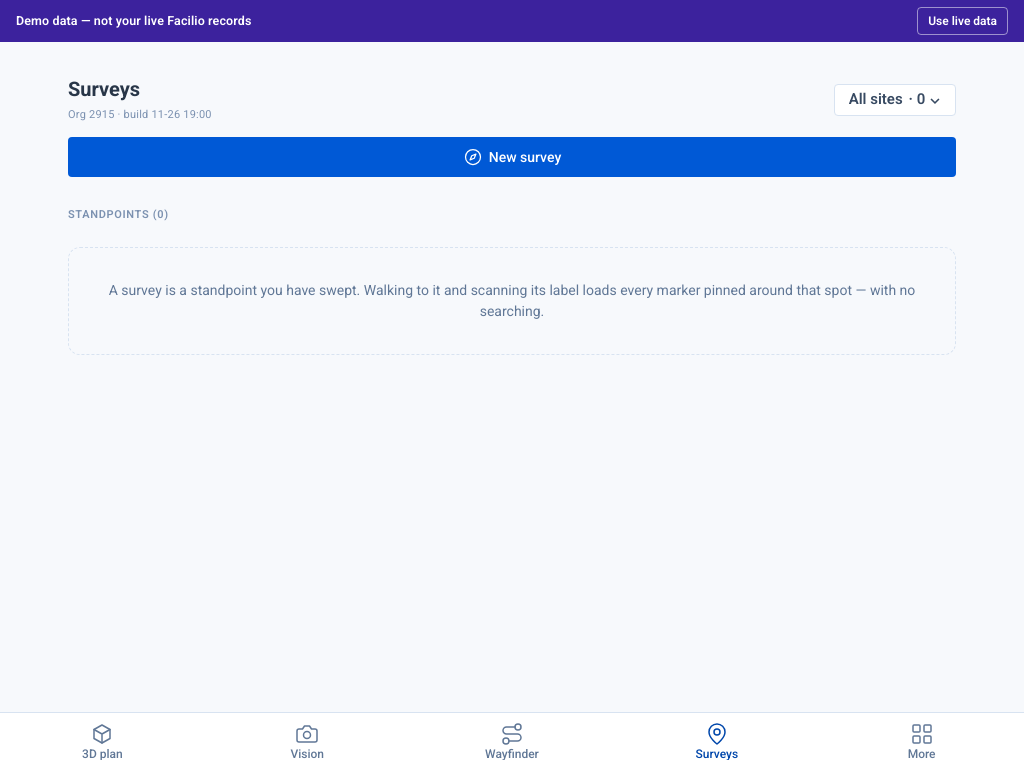
it: select › expands inline — it never opens a sheet inside a sheet
# open the scope sheet, then the SITE field row inside it
Step 1. Click the button with aria-label "Working scope" → (895, 100), box [834,84,956,116]
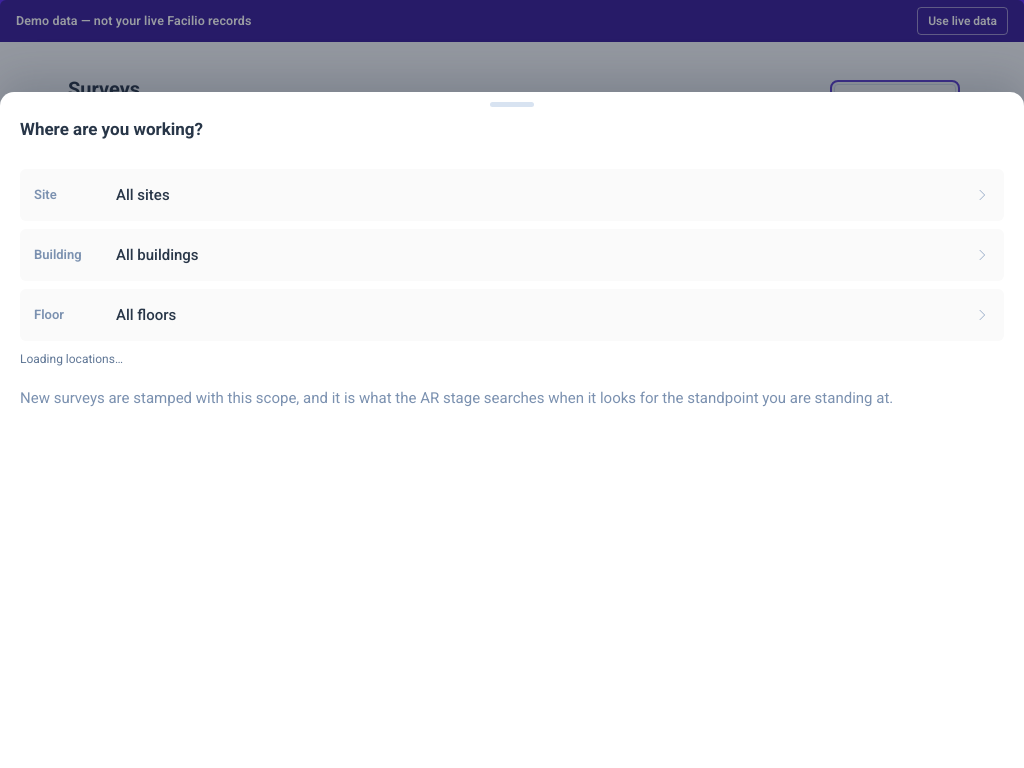
Step 2. Click the button "Site All sites" → (143, 195), box [20,169,1004,221]
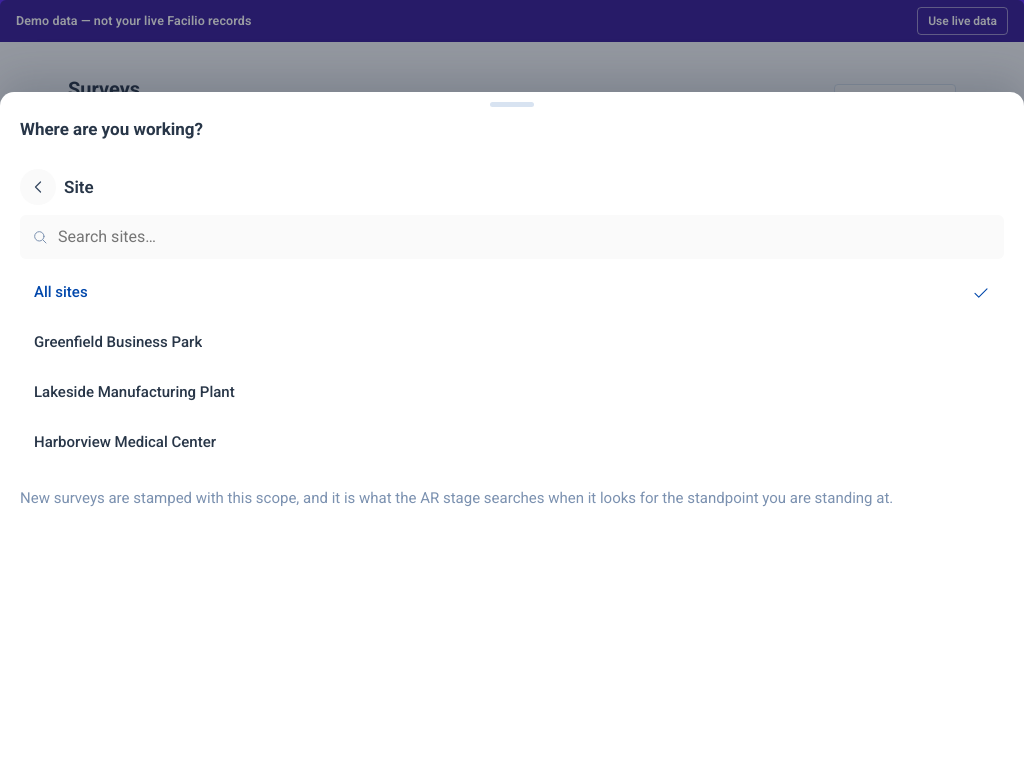
Now the number of dialogs is 1
Now the field labelled "Search sites" is shown, box [56,226,992,249]
Now the list with class "lp-list" is shown, box [20,269,1004,469]
# picking returns to the field rows with the value applied
Step 3. Click the option "Greenfield Business Park" → (118, 342), box [20,319,1004,367]
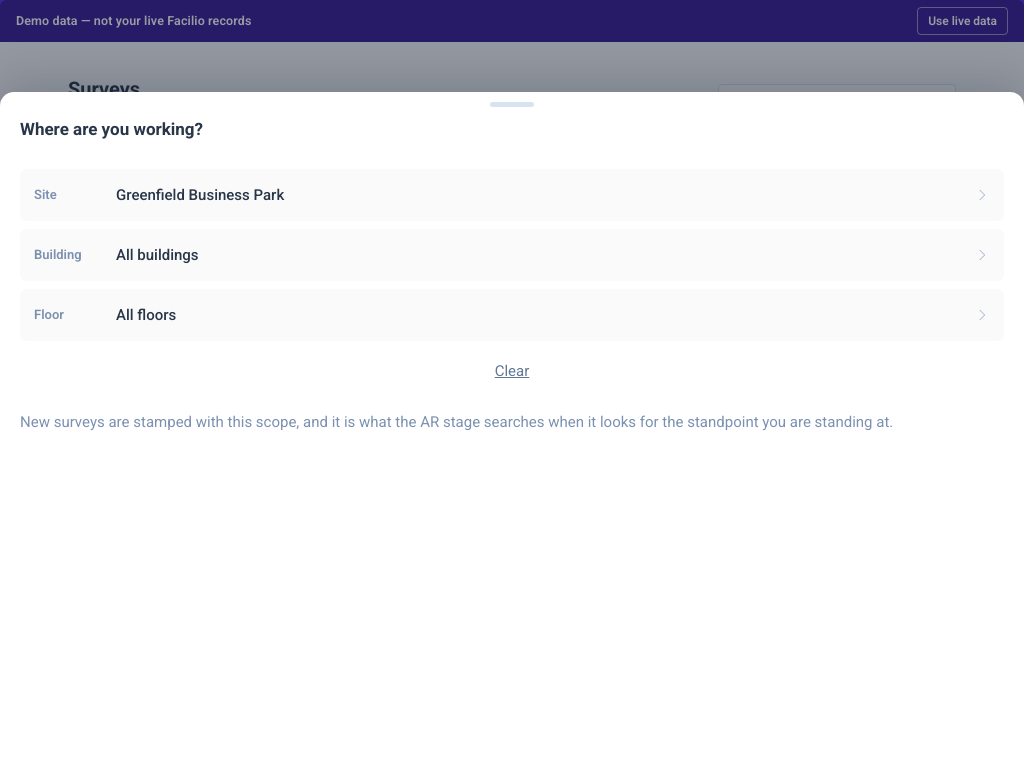
Now the text with class "lp-row-value" reads "Greenfield Business Park", box [116,186,284,204]
